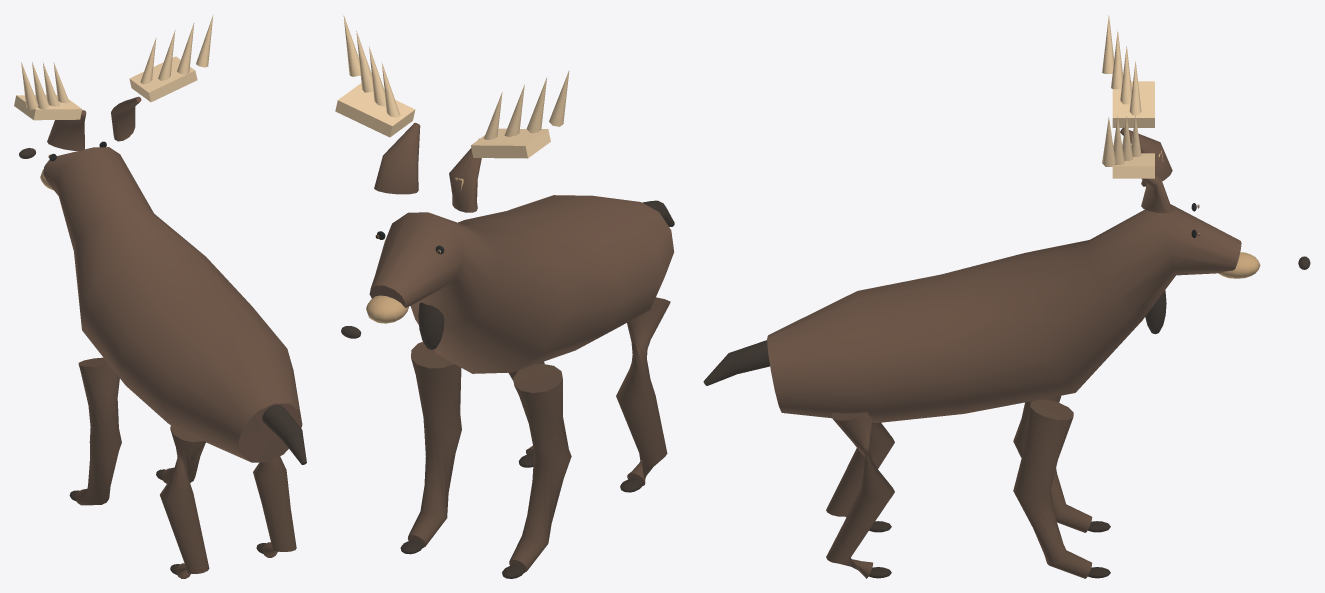
File: moose_hero.glb
The picture shows the model from 3 angles, left to right: view 1: azimuth 30°, elevation 25°; view 2: azimuth 150°, elevation 25°; view 3: azimuth 270°, elevation 25°; orthographic projection. The views are drawn at different scales.
Parts seen in each view (by area): view 1: MooseOrganicBody, Leg_LF, Leg_LH, Leg_RH, AntlerPalmDetail_R, Tail, Ear, AntlerPalmDetail_L, Ear2, _MeshInstance3D_61, _MeshInstance3D_60; view 2: MooseOrganicBody, Leg_LF, Leg_RF, Leg_LH, Ear2, AntlerPalmDetail_R, AntlerPalmDetail_L, Ear, Dewlap, Muzzle, _MeshInstance3D_61, _MeshInstance3D_60 (+3 smaller); view 3: MooseOrganicBody, Leg_RF, Leg_RH, Leg_LH, Leg_LF, Tail, AntlerPalmDetail_L, AntlerPalmDetail_R, Ear2, Ear.
Boxes of the visible parts, x1,y1,x2,y2 form: MooseOrganicBody: [43, 147, 302, 462]; Leg_LF: [75, 357, 121, 505]; Leg_LH: [160, 423, 209, 578]; Leg_RH: [253, 456, 296, 557]; AntlerPalmDetail_R: [129, 56, 197, 102]; Tail: [262, 405, 306, 464]; Ear: [47, 110, 86, 150]; AntlerPalmDetail_L: [14, 95, 82, 120]; Ear2: [111, 96, 141, 141]; _MeshInstance3D_61: [196, 15, 213, 67]; _MeshInstance3D_60: [177, 22, 194, 74]; MooseOrganicBody: [369, 195, 674, 373]; Leg_LF: [509, 364, 571, 572]; Leg_RF: [408, 342, 461, 547]; Leg_LH: [616, 297, 670, 486]; Ear2: [374, 122, 420, 194]; AntlerPalmDetail_R: [335, 83, 415, 137]; AntlerPalmDetail_L: [471, 128, 550, 158]; Ear: [449, 138, 481, 212]; Dewlap: [418, 302, 444, 349]; Muzzle: [366, 295, 408, 323]; _MeshInstance3D_61: [343, 15, 360, 76]; _MeshInstance3D_60: [356, 30, 373, 92]; MooseOrganicBody: [767, 204, 1241, 422]; Leg_RF: [1013, 399, 1092, 578]; Leg_RH: [826, 412, 894, 578]; Leg_LH: [826, 422, 894, 517]; Leg_LF: [1013, 395, 1092, 532]; Tail: [703, 340, 769, 385]; AntlerPalmDetail_L: [1112, 81, 1154, 127]; AntlerPalmDetail_R: [1112, 153, 1154, 178]; Ear2: [1141, 173, 1172, 213]; Ear: [1120, 127, 1172, 186].
Size of the model in its own units: 1.93 by 4.32 by 4.85.
